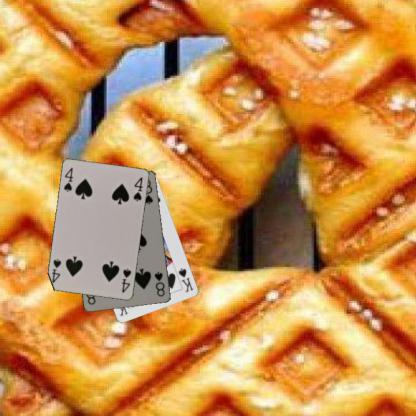4s: (61, 165, 75, 193), (119, 266, 132, 294)
8s: (152, 269, 166, 298)
Ks: (176, 266, 195, 293)
